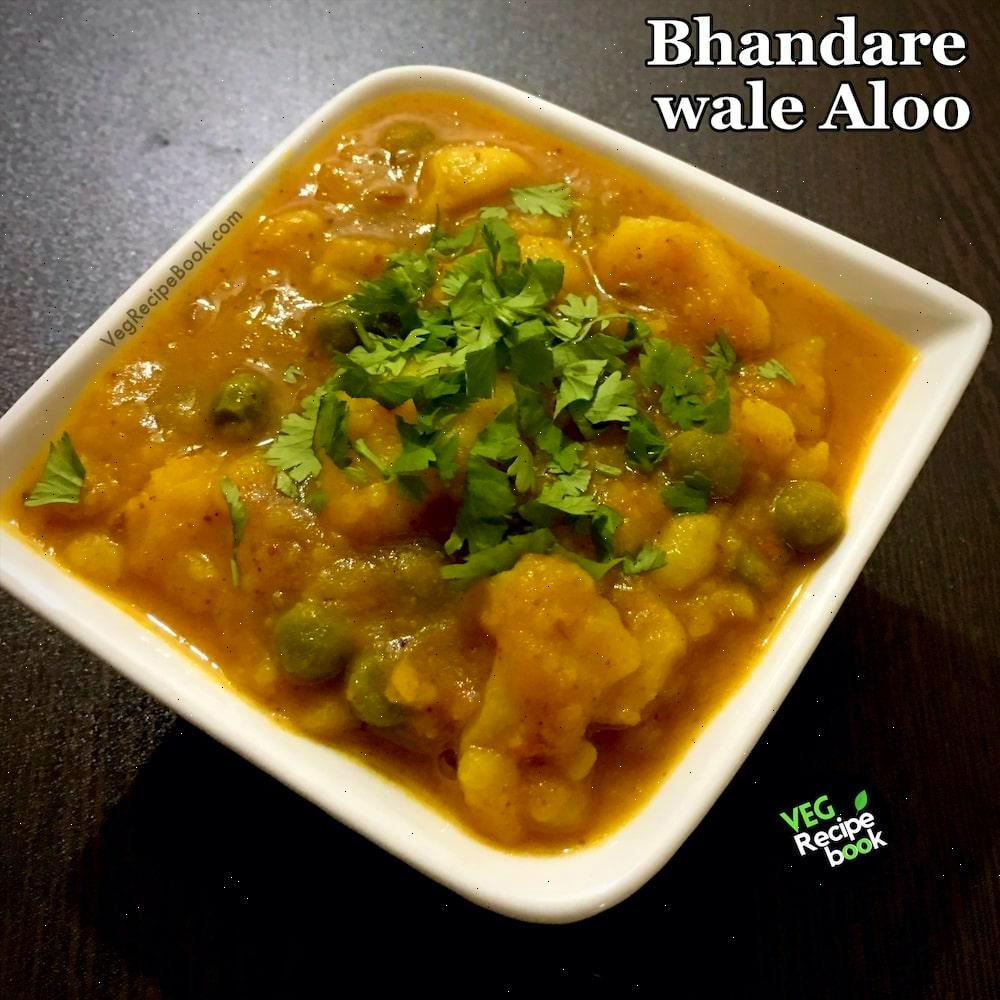aloo sabji: (116, 186, 842, 735)
